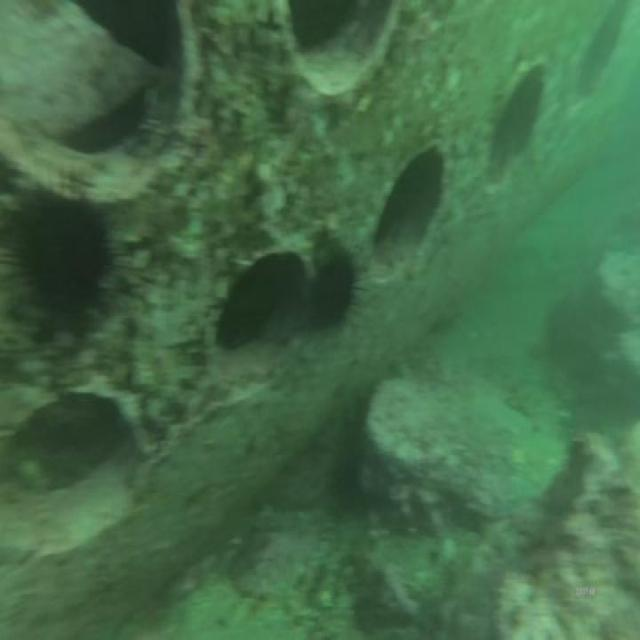echinus: (16, 188, 113, 343), (304, 240, 356, 342)
